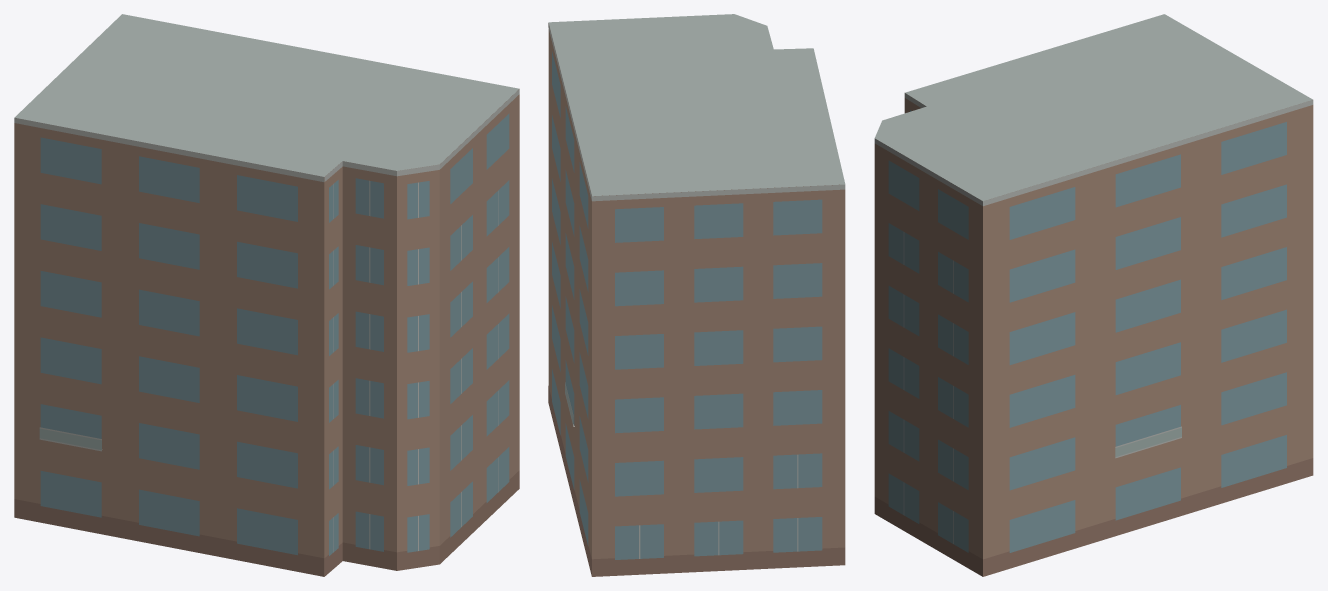
The model's file is survey-upis-32713473.glb.
3 views of the same model, side by side, from view 1: azimuth 30°, elevation 25°; view 2: azimuth 150°, elevation 25°; view 3: azimuth 270°, elevation 25° (orthographic). The views are drawn at different scales.
Parts seen in each view (by area): view 1: survey-upis-32713473.tmp; view 2: survey-upis-32713473.tmp; view 3: survey-upis-32713473.tmp.
Part boxes in pixels (box(x1,y1,x2,y2)): survey-upis-32713473.tmp: box(14, 14, 519, 576); survey-upis-32713473.tmp: box(548, 14, 845, 576); survey-upis-32713473.tmp: box(874, 14, 1313, 576).
Size of the model in its own units: 19.57 by 18.3 by 19.38.
